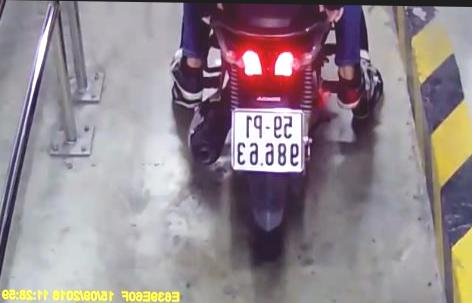License_Plate: (219, 101, 314, 178)
